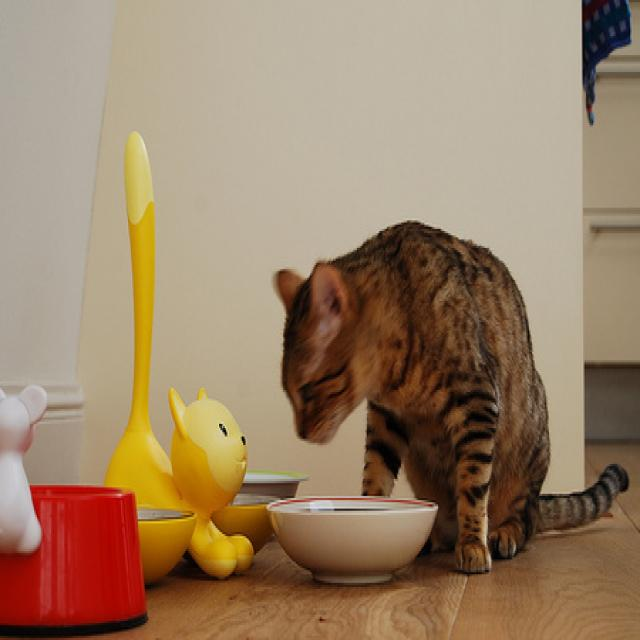Bengal: (268, 212, 632, 576)
